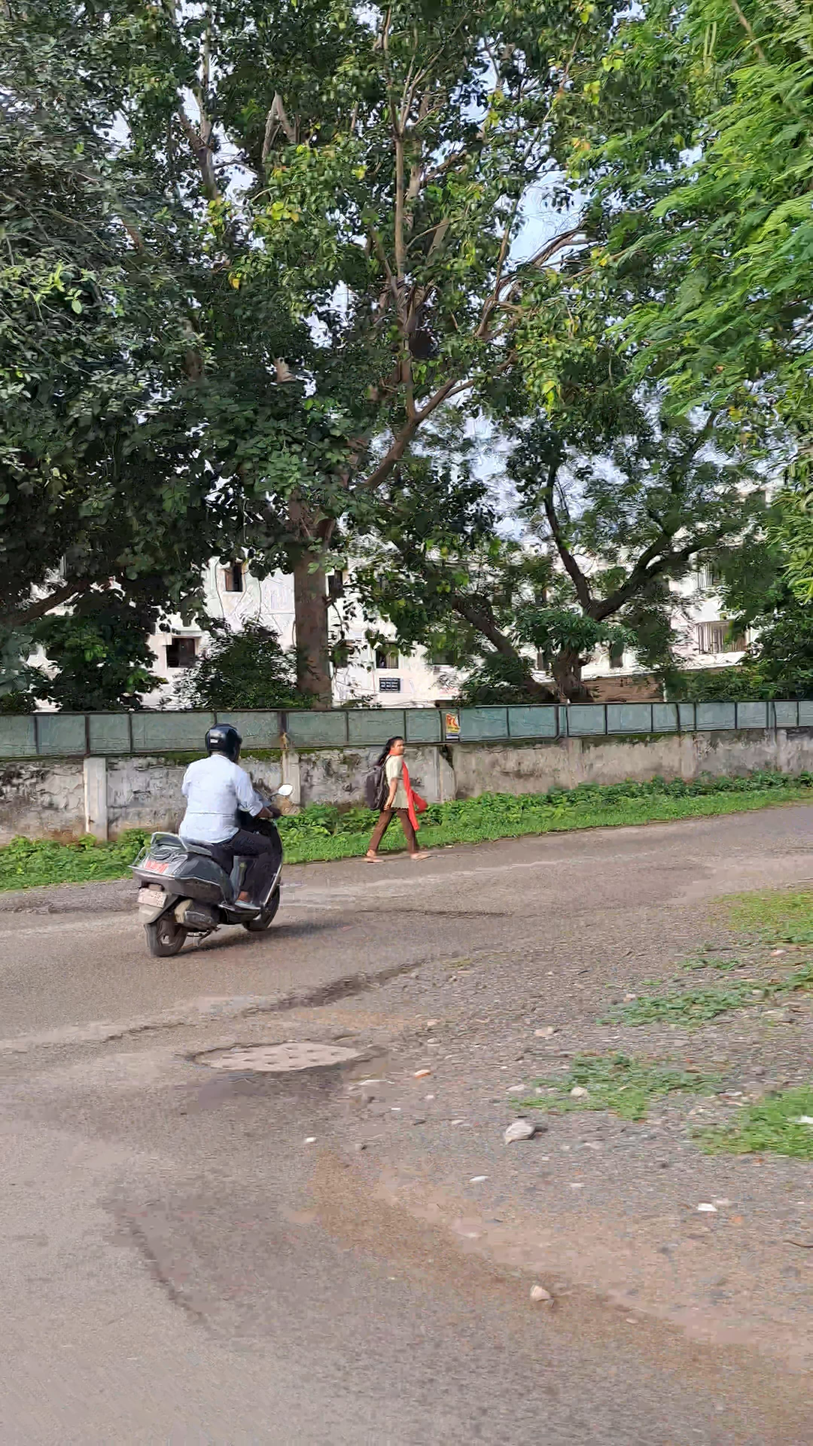BikeWithRider: (110, 706, 324, 991)
Helmet: (192, 718, 245, 772)
